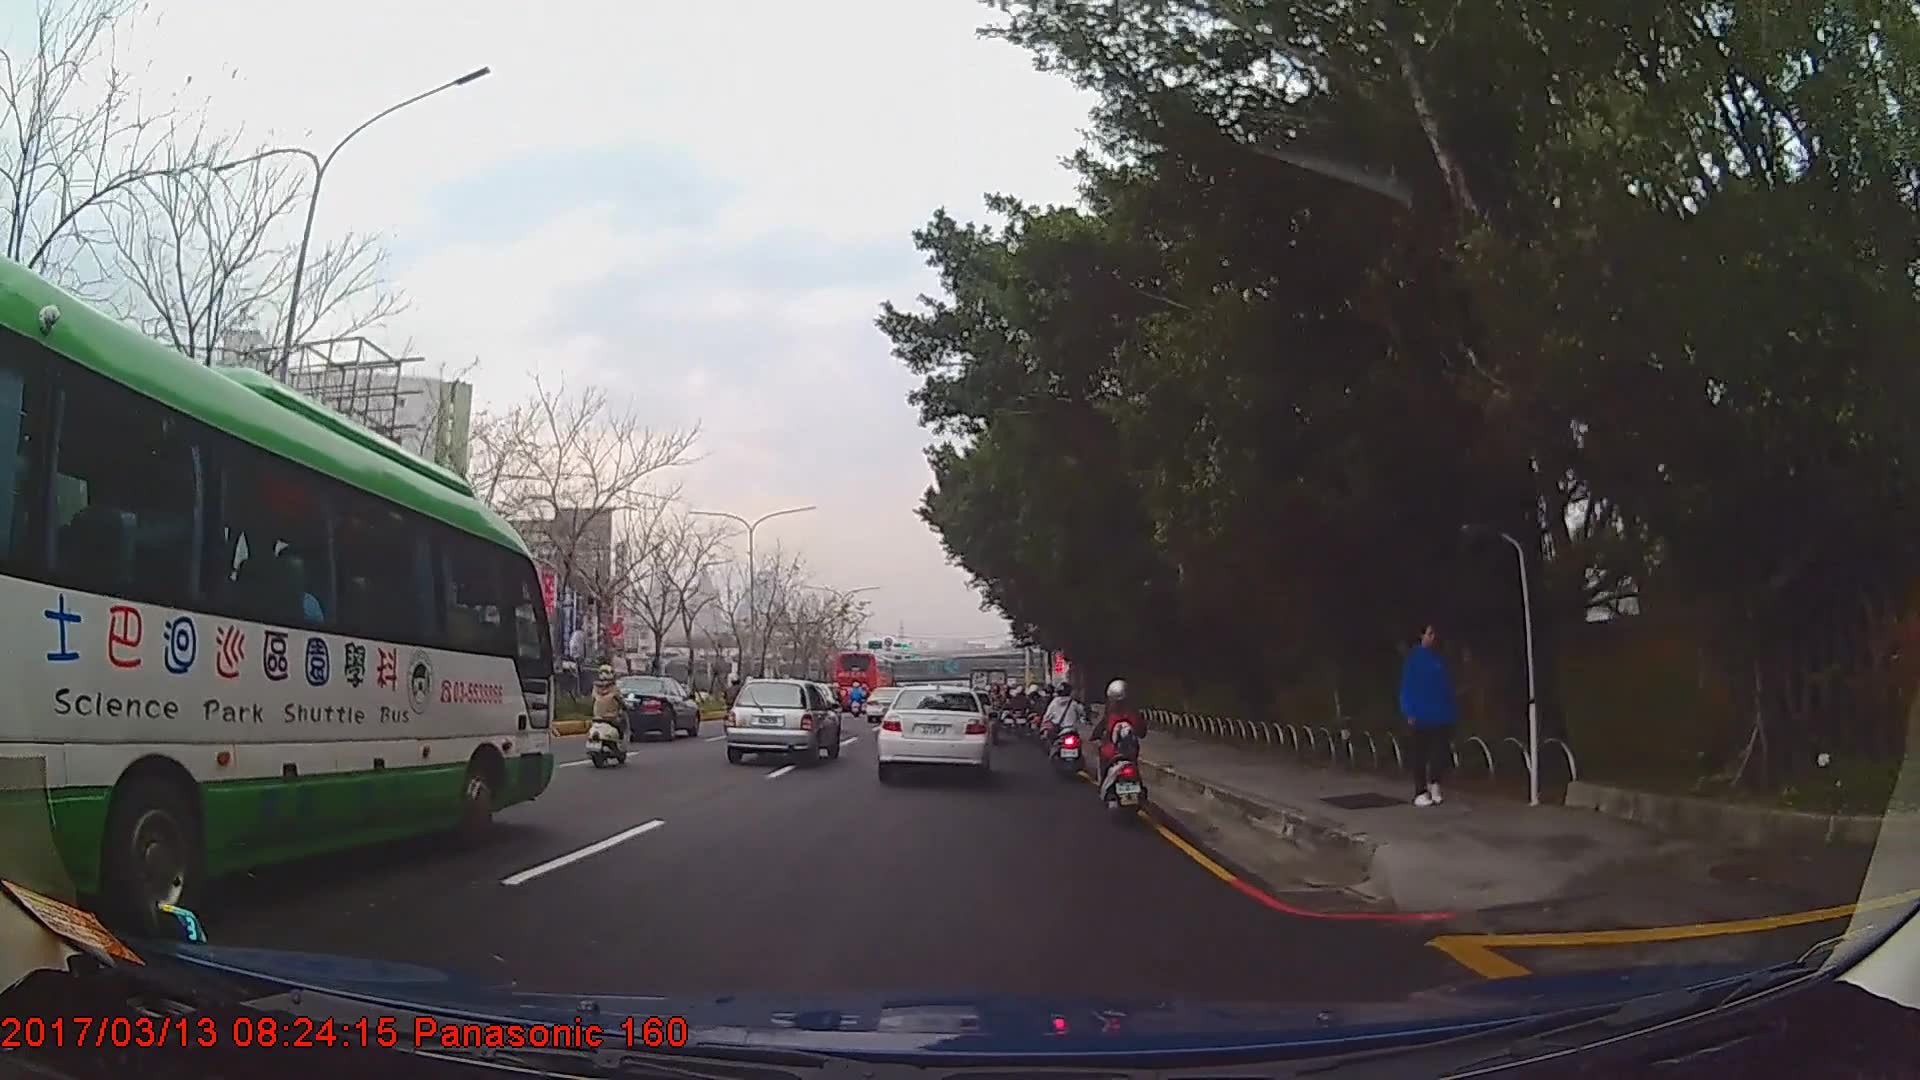pedestrian: (1396, 620, 1456, 806)
rider: (1096, 675, 1147, 820), (588, 661, 635, 770), (1042, 679, 1086, 780), (1037, 684, 1059, 752), (725, 674, 747, 725)
vehicle: (0, 246, 554, 946), (877, 680, 992, 779), (724, 674, 840, 764), (600, 673, 699, 739), (829, 647, 898, 709)
